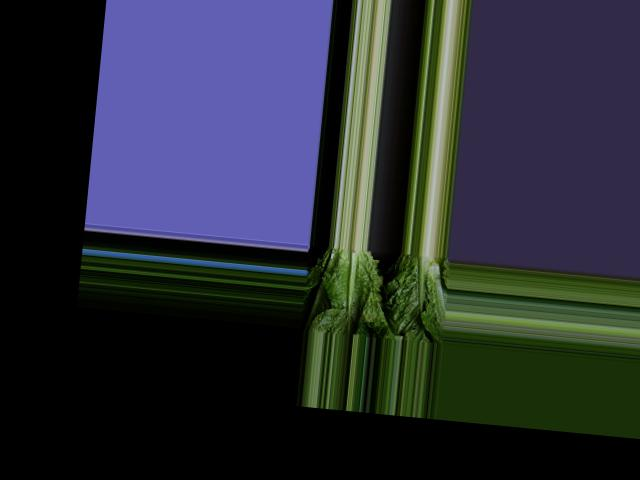lettuce: (383, 251, 446, 338)
